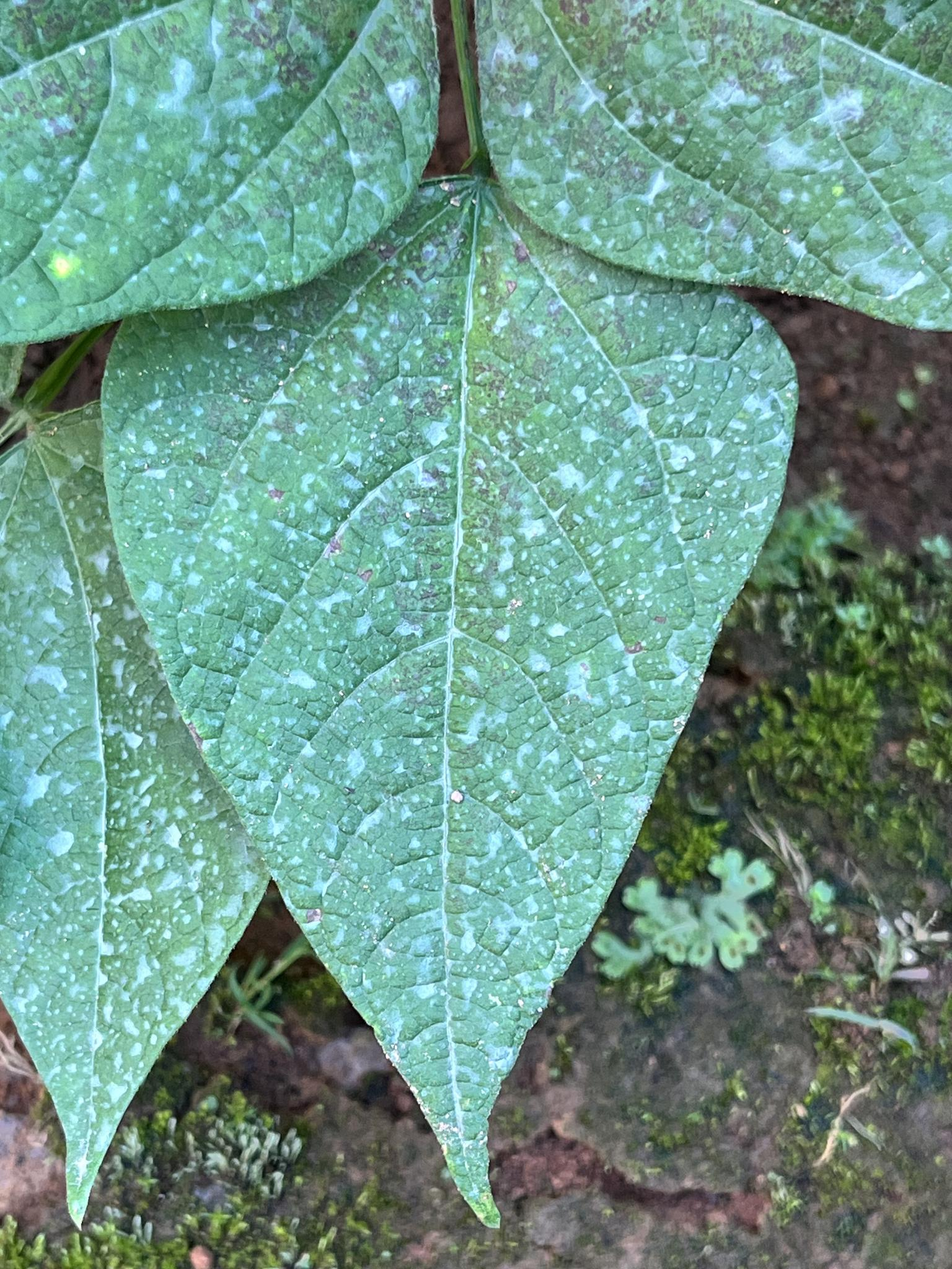embun tepung: (0, 0, 952, 1225)
